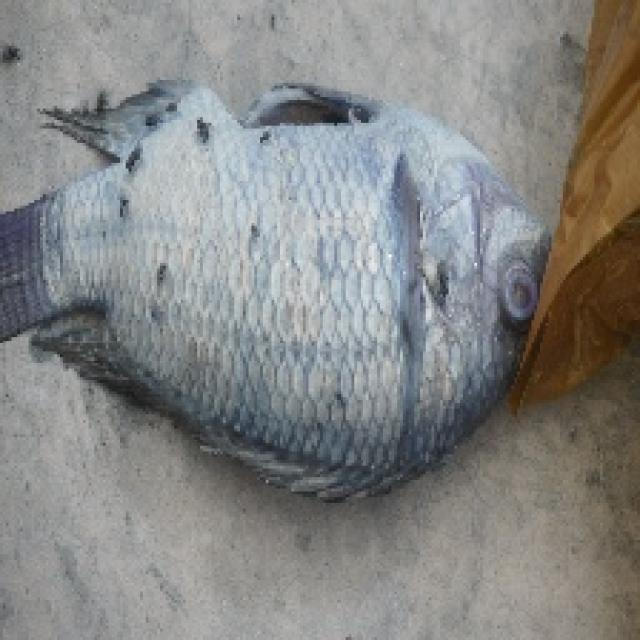Non-Fresh: (42, 111, 558, 456)
